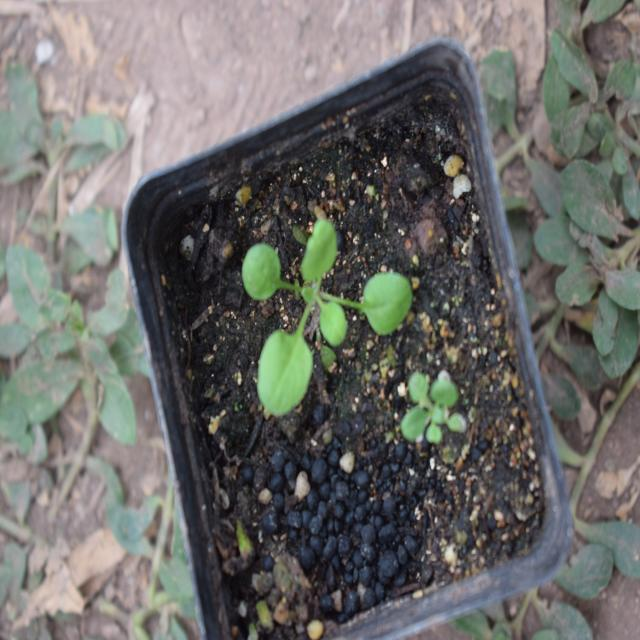Shepherd_Purse: (219, 174, 410, 417)
